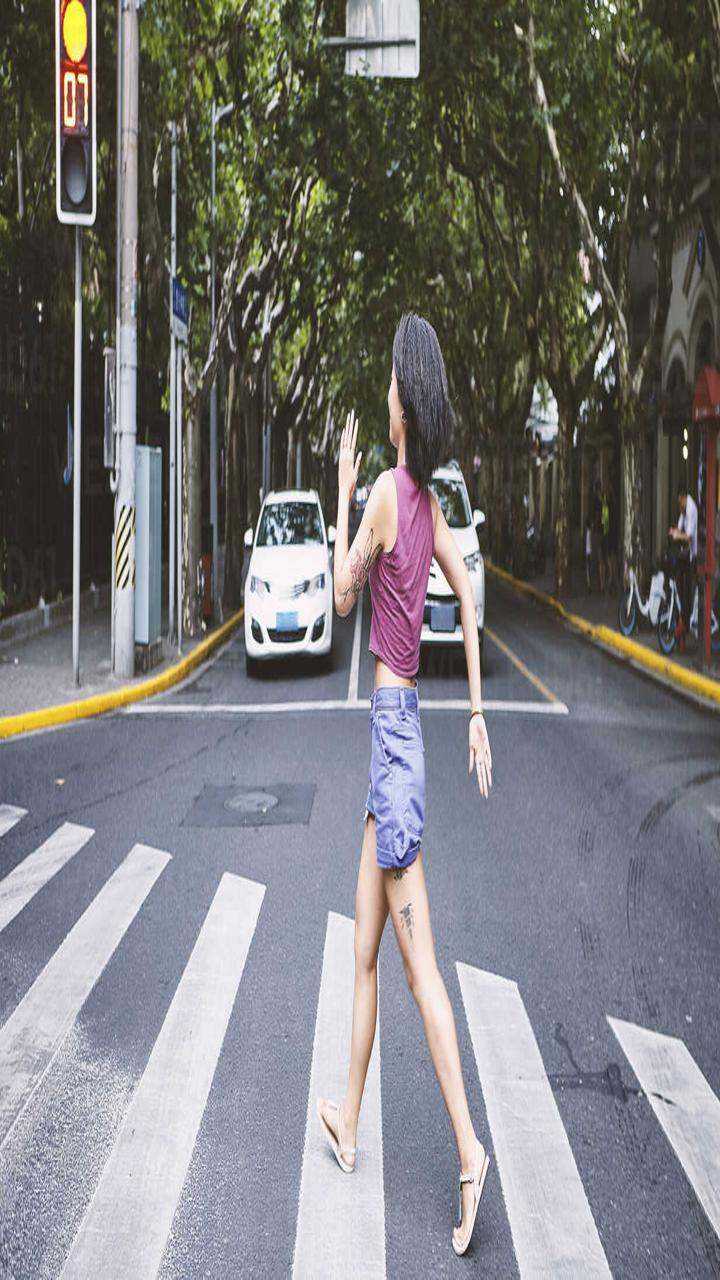Traffic sign: (47, 4, 115, 239)
pedestrian: (328, 305, 512, 1251)
vehicle: (238, 475, 350, 689)
